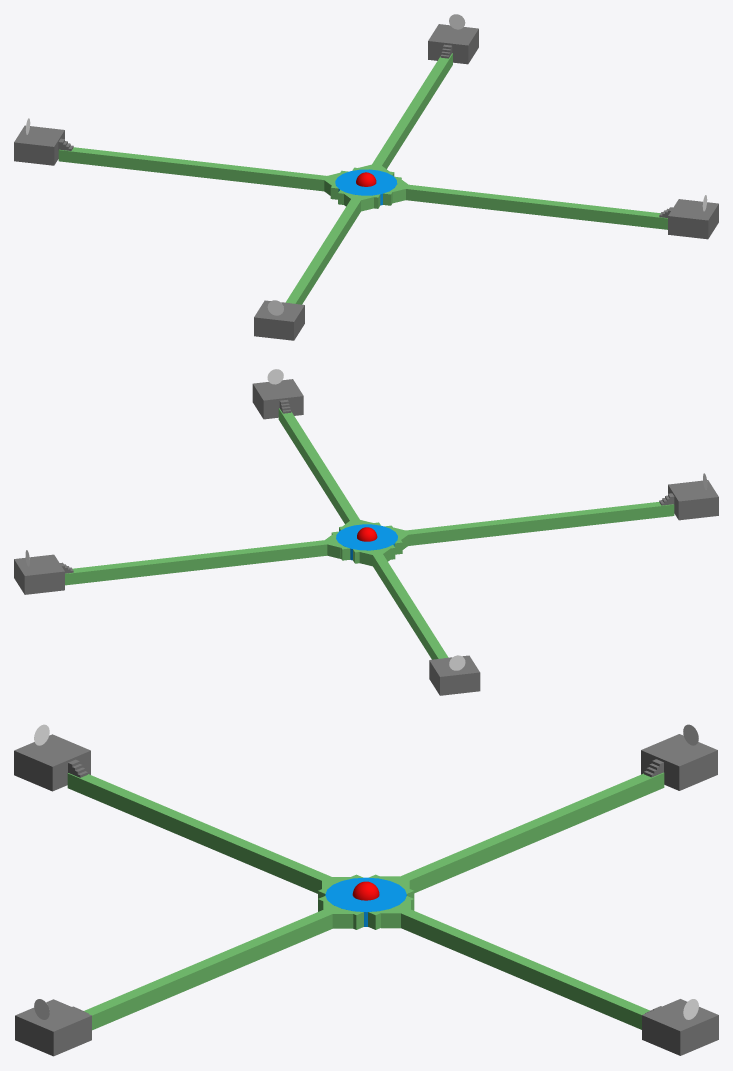
Rendered from 1-3StageScale.fbx.
The picture shows the model from 3 angles, top to bottom: view 1: azimuth 30°, elevation 25°; view 2: azimuth 150°, elevation 25°; view 3: azimuth 270°, elevation 25°; orthographic projection. The views are drawn at different scales.
Visible parts, largest first — view 1: Cube__1_, Cube__1__2, Cube__1__3, Cube__1__1, Cube__2__2, Cube__2_, Cube__2__1, Cube__2__3, Cylinder; view 2: Cube__1__1, Cube__1__3, Cube__1__2, Cube__1_, Cube__2__3, Cube__2__1, Cube__2_, Cube__2__2, Cylinder; view 3: Cube__1_, Cube__1__1, Cube__1__2, Cube__1__3, Cube__2__2, Cube__2__3, Cube__2__1, Cube__2_, Cylinder, Cube_2, Cube_3.
Boxes of the visible parts, x1,y1,x2,y2 form: Cube__1_: (58, 147, 332, 191); Cube__1__2: (400, 184, 667, 229); Cube__1__3: (370, 53, 452, 169); Cube__1__1: (285, 197, 362, 304); Cube__2__2: (668, 199, 718, 239); Cube__2_: (14, 125, 64, 165); Cube__2__1: (254, 300, 304, 340); Cube__2__3: (428, 24, 478, 64); Cylinder: (335, 169, 397, 205); Cube__1__1: (406, 502, 674, 545); Cube__1__3: (65, 539, 330, 585); Cube__1__2: (278, 408, 359, 524); Cube__1_: (371, 551, 448, 659); Cube__2__3: (14, 554, 64, 594); Cube__2__1: (668, 480, 718, 520); Cube__2_: (429, 655, 480, 695); Cube__2__2: (252, 379, 303, 419); Cylinder: (336, 524, 397, 560); Cube__1_: (401, 772, 664, 893); Cube__1__1: (67, 773, 331, 893); Cube__1__2: (84, 910, 337, 1030); Cube__1__3: (401, 909, 649, 1029); Cube__2__2: (15, 999, 91, 1056); Cube__2__3: (642, 999, 718, 1055); Cube__2__1: (14, 734, 90, 791); Cube__2_: (641, 734, 717, 790); Cylinder: (325, 877, 406, 926); Cube_2: (323, 901, 353, 928); Cube_3: (381, 900, 410, 928).
Size of the model in its own units: 25874 by 1934 by 25874.
